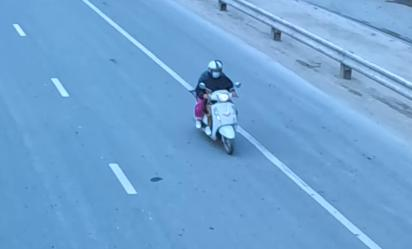scooter: (191, 80, 243, 156)
